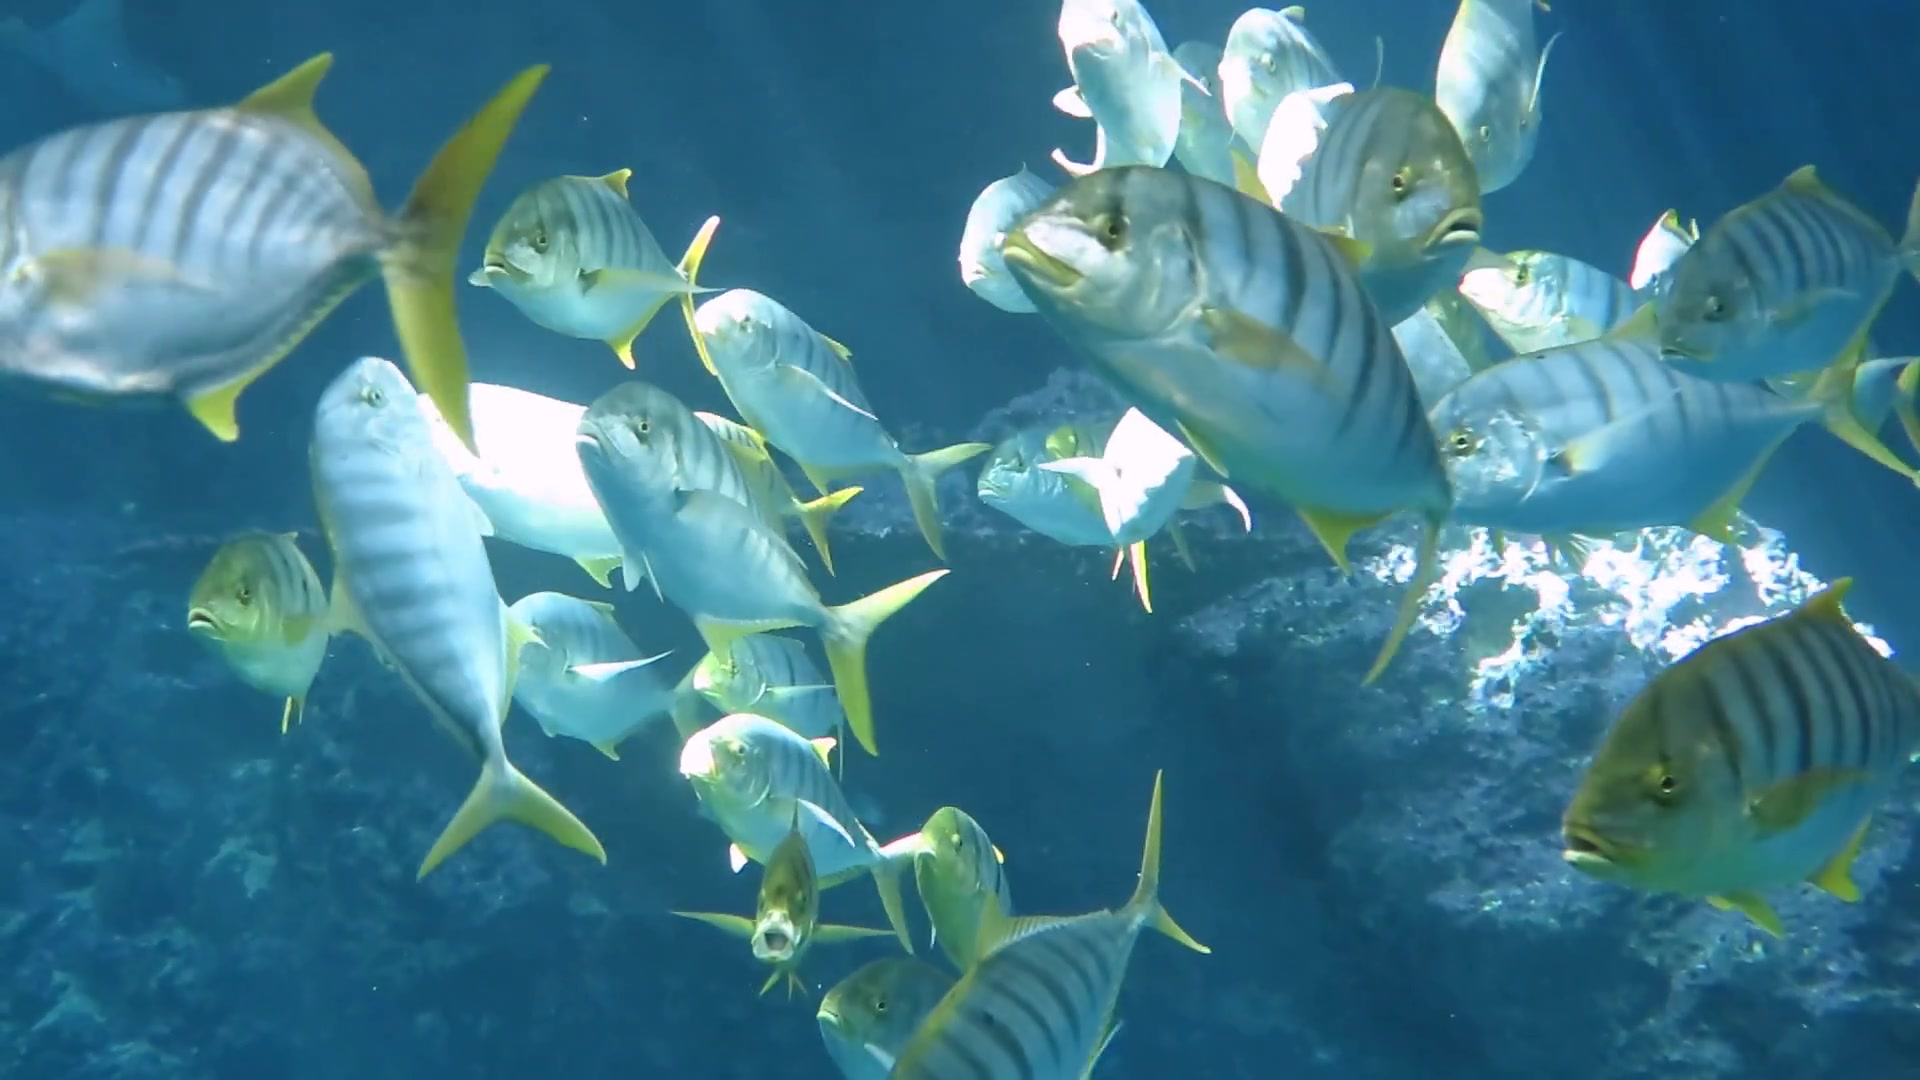Gnathanodon speciosus: (1007, 161, 1447, 541), (319, 371, 592, 893), (1565, 603, 1876, 907), (560, 384, 868, 682), (700, 282, 994, 568), (1658, 179, 1900, 380), (452, 158, 709, 338), (669, 721, 914, 897), (170, 506, 338, 717), (719, 835, 844, 1004)
